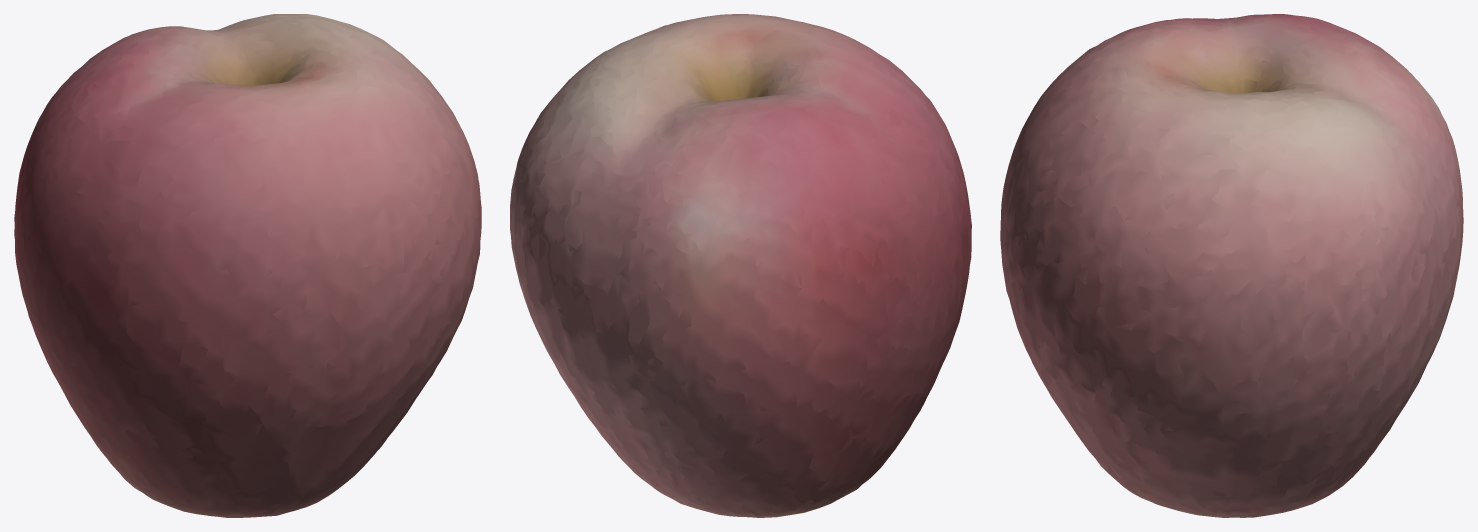
Rendered from 0000_mask_001_red_apple.glb.
3 renders of one model, left to right at view 1: azimuth 30°, elevation 25°; view 2: azimuth 150°, elevation 25°; view 3: azimuth 270°, elevation 25°, orthographic. The views are drawn at different scales.
Parts seen in each view (by area): view 1: mask_001_object; view 2: mask_001_object; view 3: mask_001_object.
Part boxes in pixels (left/top/right/bottom): mask_001_object: left=14, top=14, right=481, bottom=517; mask_001_object: left=510, top=14, right=971, bottom=517; mask_001_object: left=1000, top=14, right=1463, bottom=517.
Bounding box in the file's own units: 0.1092 × 0.1093 × 0.1058.
